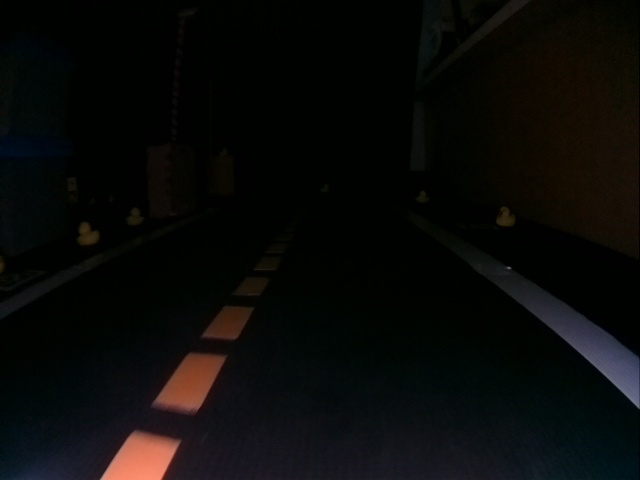Duckie: (77, 222, 99, 245), (497, 207, 517, 226), (126, 207, 144, 225), (416, 190, 429, 203)
